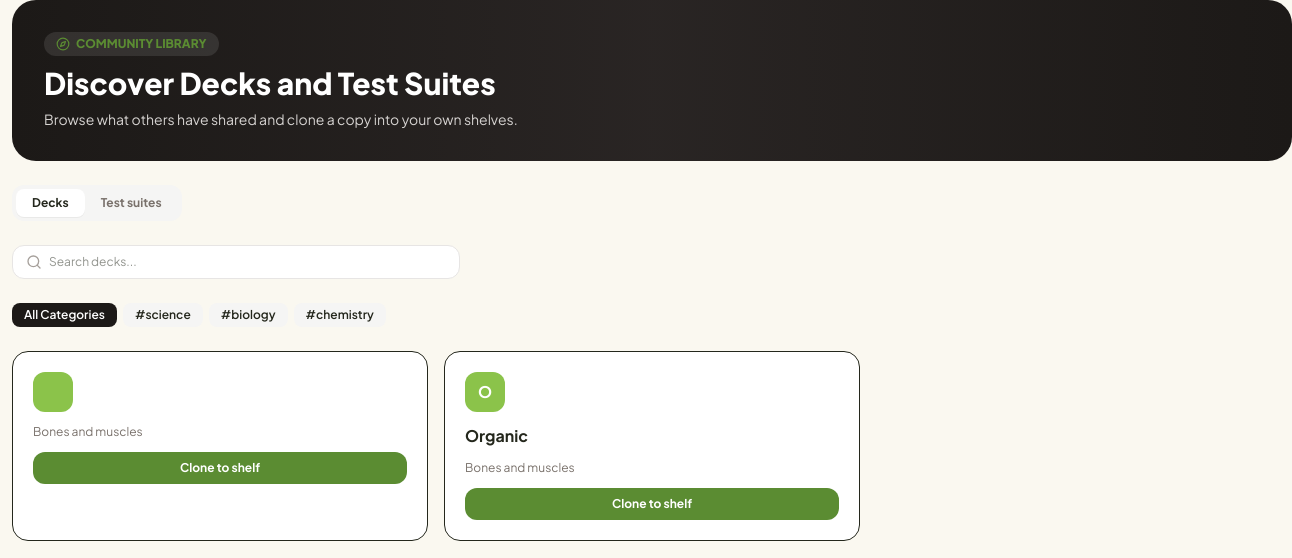
Scenario: DiscoverPage › filters decks by tag and hides the tag chips on the test suites tab
expect the button with test id "btn-tag-all" is shown: met, box [12,303,117,327]
Click the button "#chemistry" at (340,315), box [294,303,386,327]
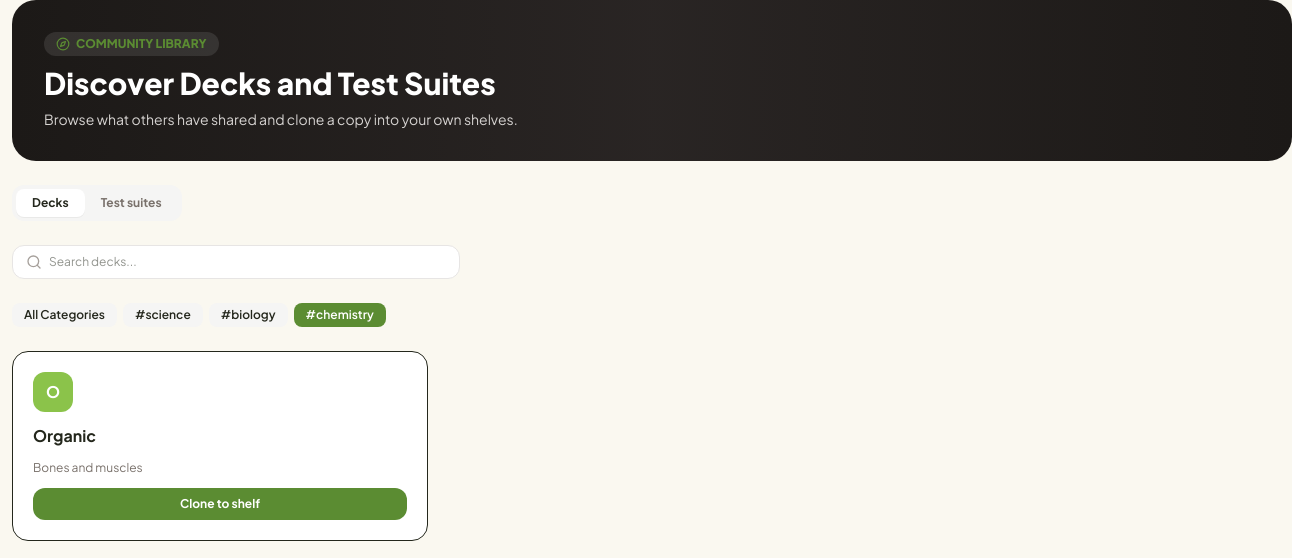
expect the element with test id "discover-card-d2" is shown: met, box [12,351,428,541]
expect the element with test id "discover-card-d1" is gone: met
Note: Clicking the active tag again clears it.
Click the button "#chemistry" at (340,315), box [294,303,386,327]
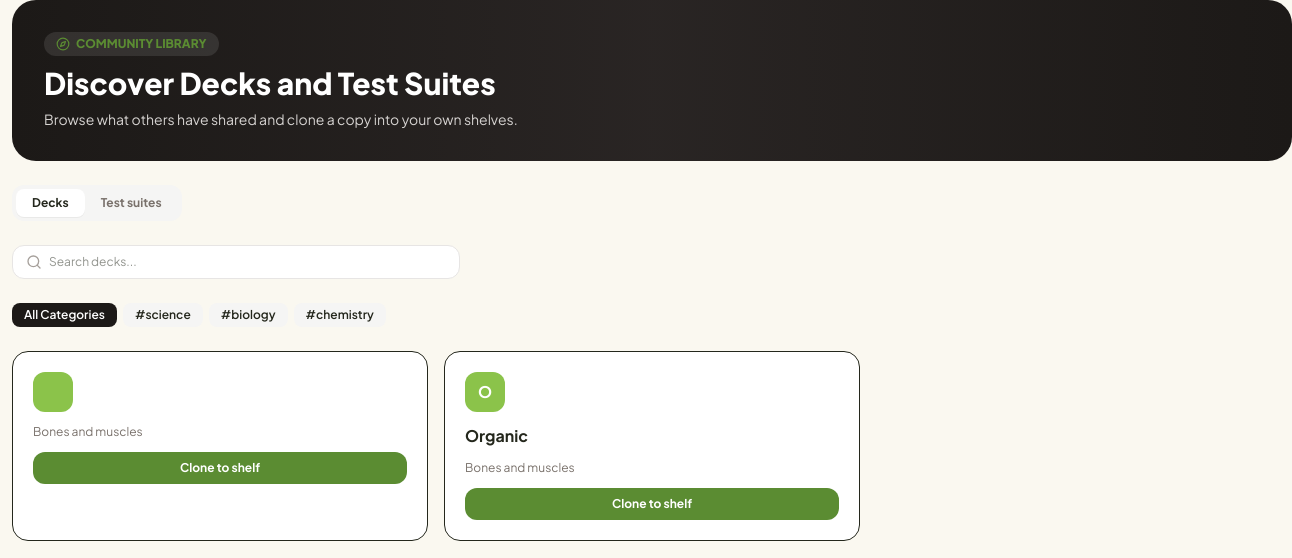
expect the element with test id "discover-card-d1" is shown: met, box [12,351,428,541]
Click the button "#biology" at (248,315), box [209,303,288,327]
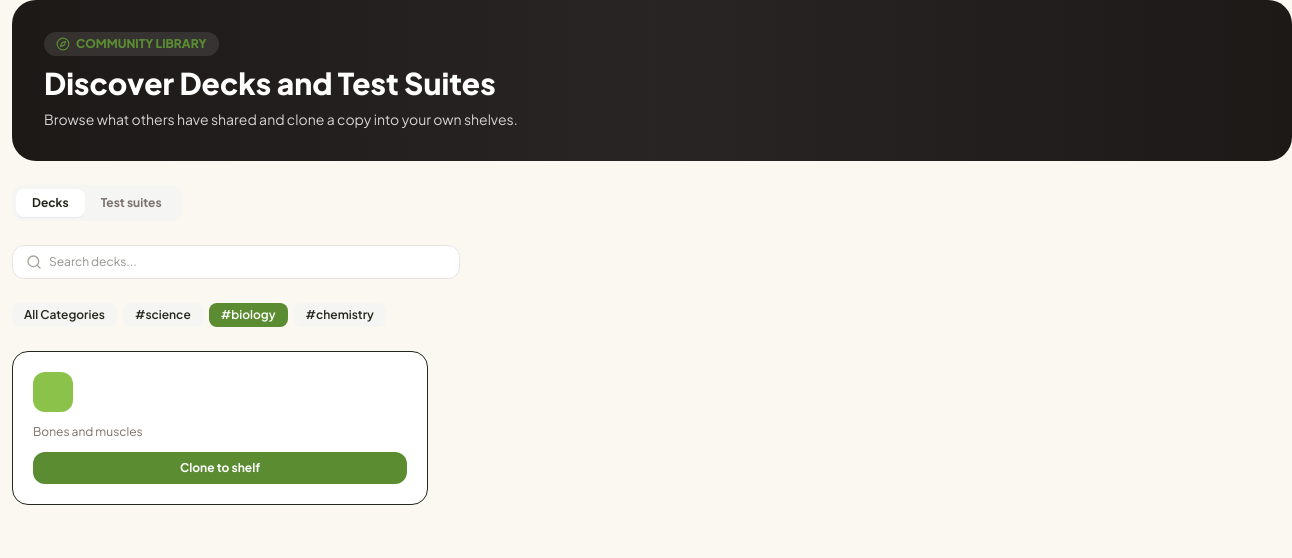
expect the element with test id "discover-card-d2" is gone: met
Click the button with test id "btn-tag-all" at (64,315), box [12,303,117,327]
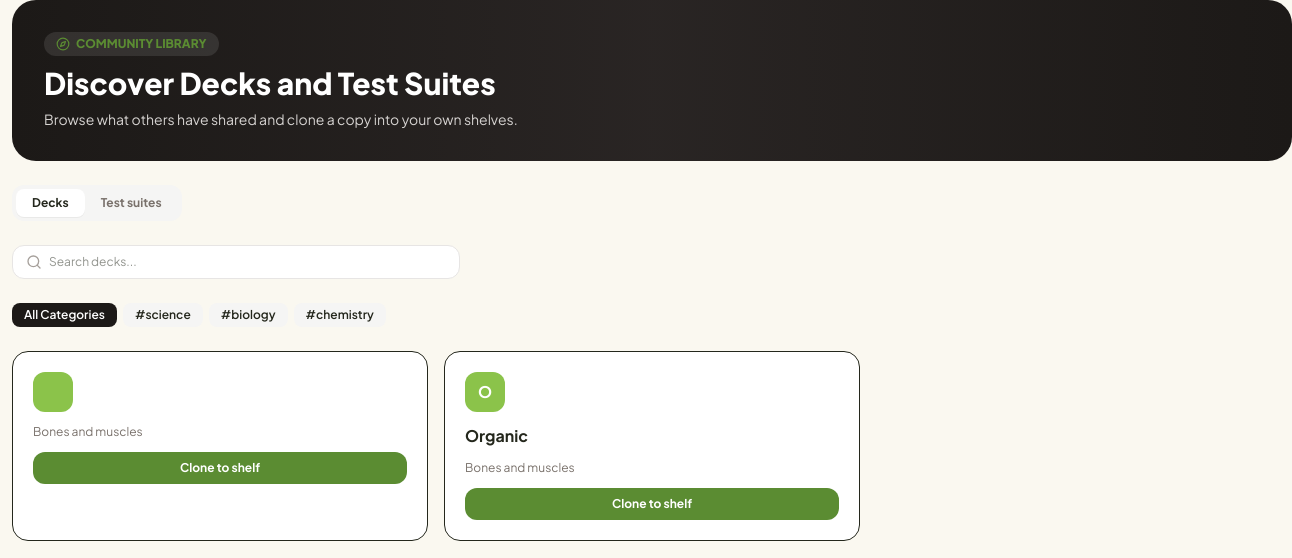
expect the element with test id "discover-card-d2" is shown: met, box [444,351,860,541]
Click the tab with test id "tab-discover-tests" at (131,203), box [85,189,178,217]
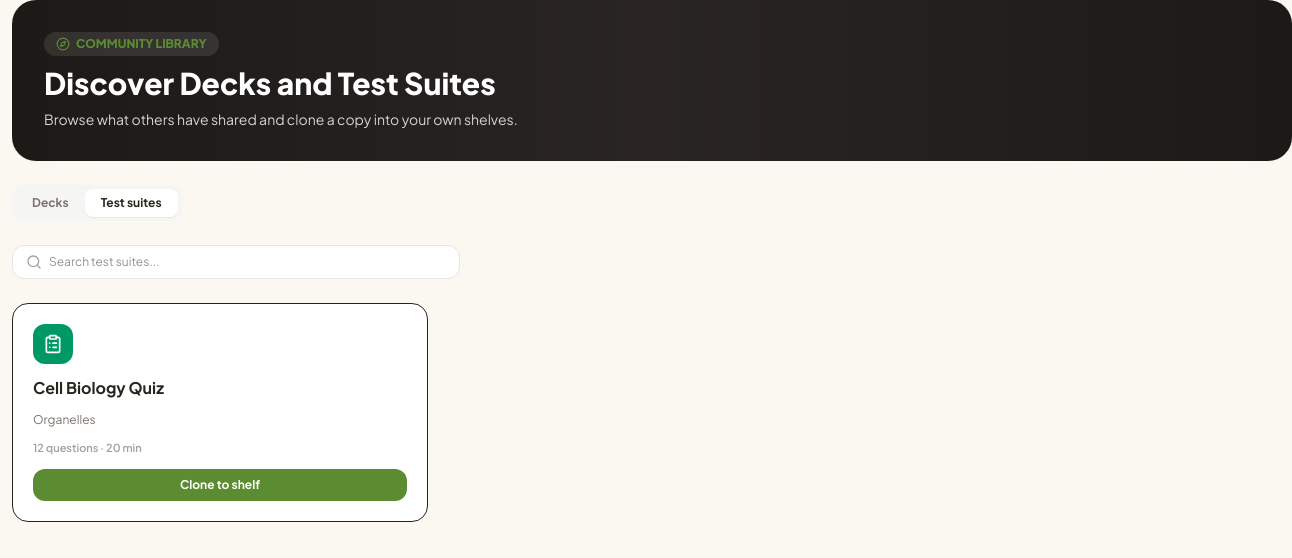
expect the button with test id "btn-tag-all" is gone: met
